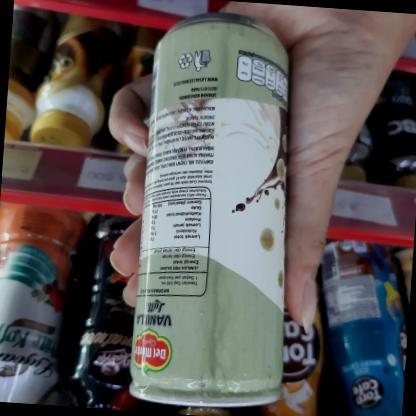alumunium_can: (106, 0, 333, 416)
